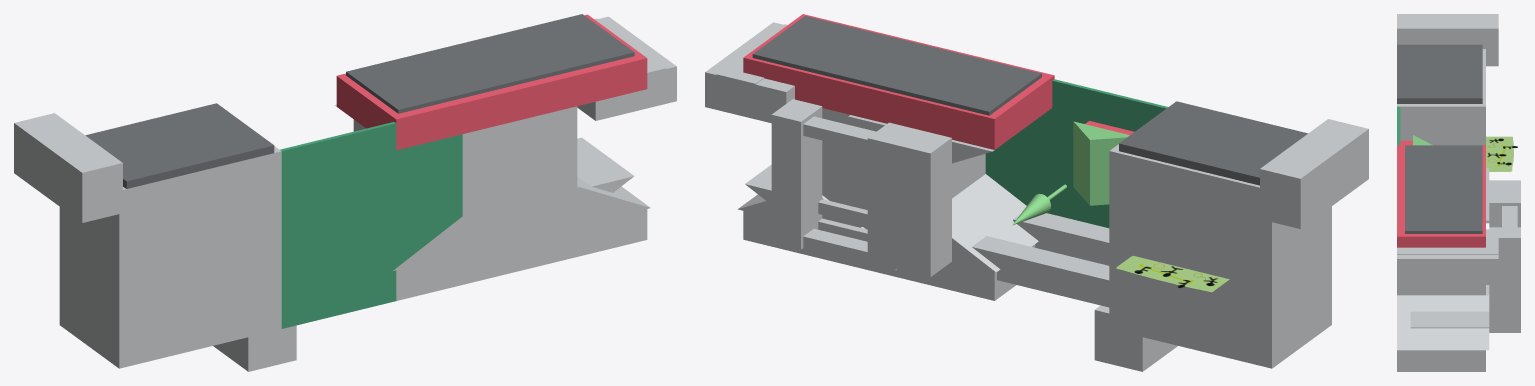
The model's file is asset.glb.
The picture shows the model from 3 angles, left to right: view 1: azimuth 30°, elevation 25°; view 2: azimuth 150°, elevation 25°; view 3: azimuth 270°, elevation 25°; orthographic projection. The views are drawn at different scales.
Parts seen in each view (by area): view 1: obj_0; view 2: obj_0, IMG_9001; view 3: obj_0, IMG_9001.
Part boxes in pixels (left/top/right/bottom): obj_0: left=14, top=14, right=676, bottom=371; obj_0: left=705, top=14, right=1368, bottom=371; IMG_9001: left=1116, top=255, right=1229, bottom=292; obj_0: left=1397, top=14, right=1520, bottom=371; IMG_9001: left=1486, top=136, right=1517, bottom=171.
Bounding box in the file's own units: 161 × 62 × 39.
Materials: 6 (1 with a texture image).
